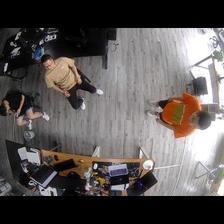normal: (40, 53, 105, 109), (145, 95, 210, 138)
